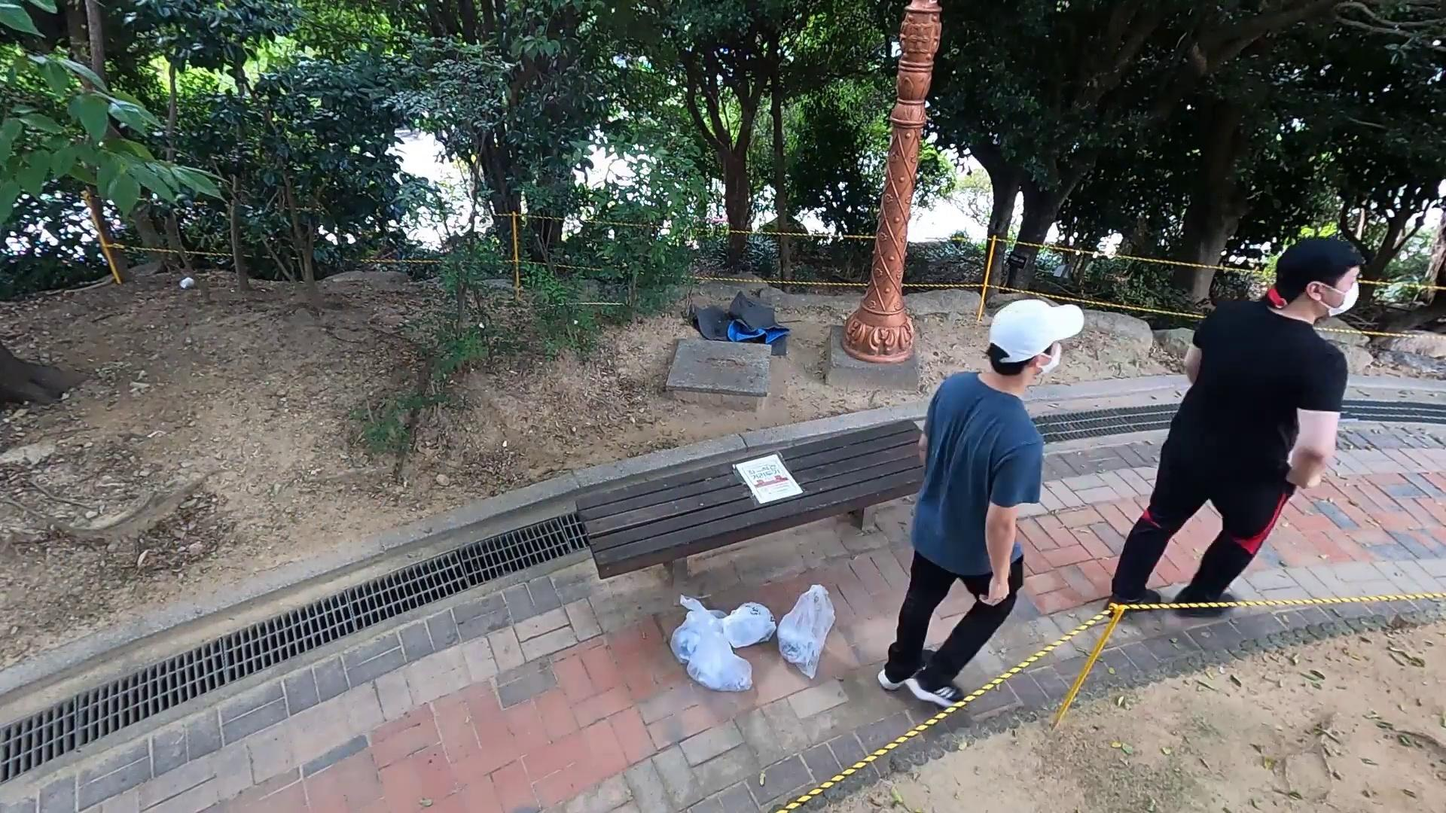person: (1106, 226, 1376, 620), (870, 295, 1092, 713)
trash: (772, 577, 841, 685), (666, 587, 735, 667), (688, 620, 756, 697), (720, 594, 777, 650)
